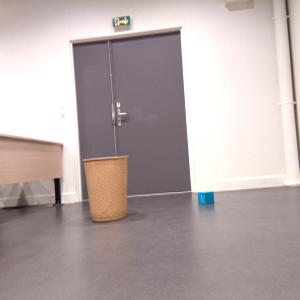medium: (82, 156, 134, 222)
small: (197, 191, 215, 205)
